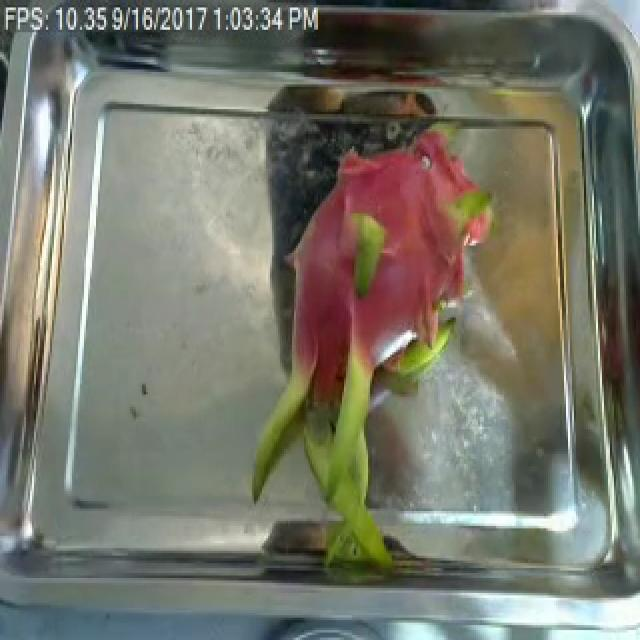fruit: (236, 137, 486, 566)
